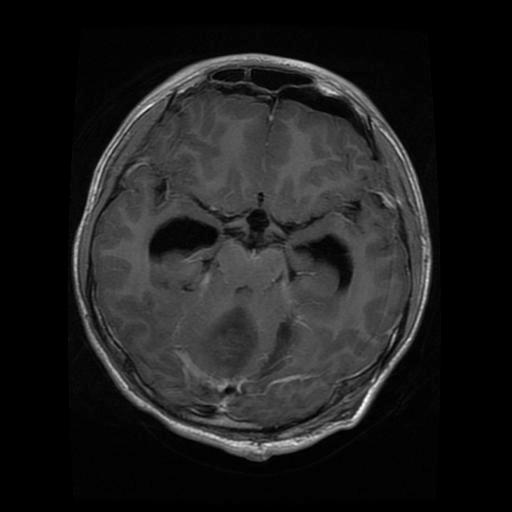Tumour-Glioma: (199, 305, 288, 379)
